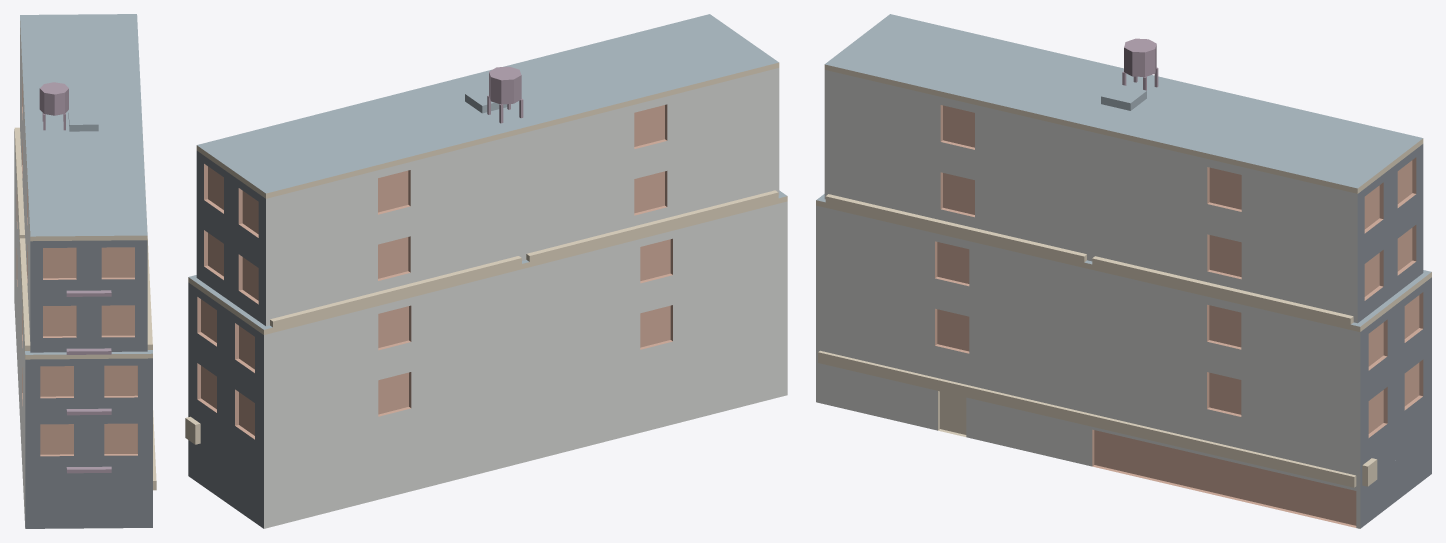
File: doitt-925937__lod_0.glb
3 views of the same model, side by side, from view 1: azimuth 30°, elevation 25°; view 2: azimuth 150°, elevation 25°; view 3: azimuth 270°, elevation 25° (orthographic). The views are drawn at different scales.
Bounding box in the file's own units: 18.86 × 18.34 × 26.93.
